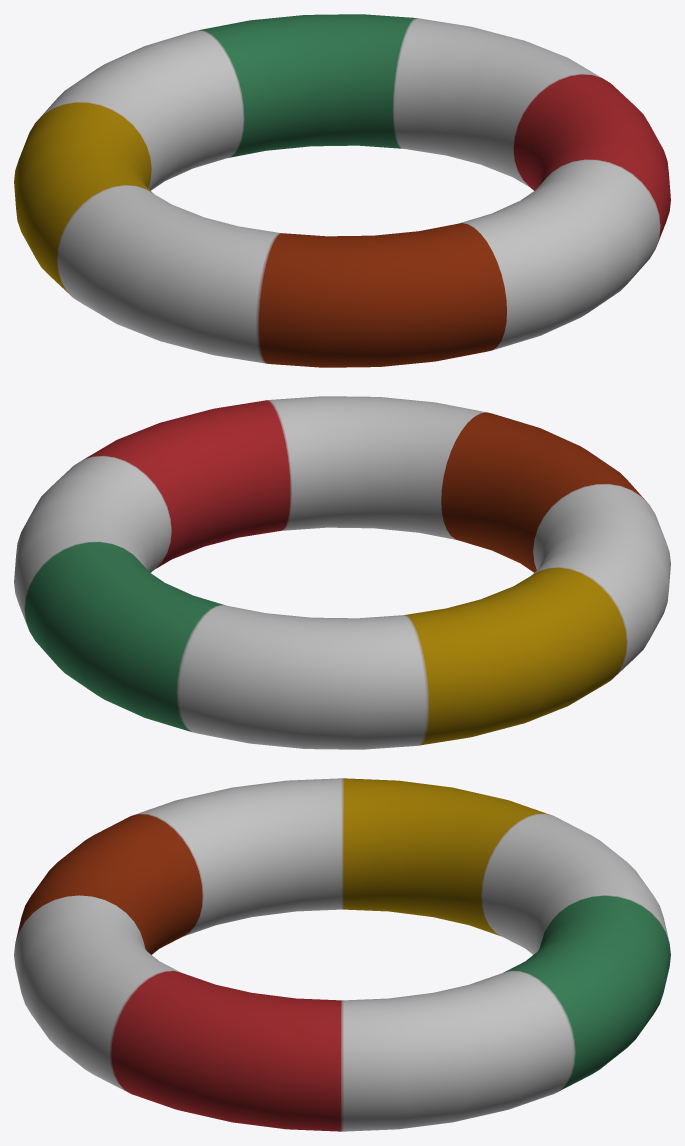
File: SwimRing.glb
3 views of the same model, one above another, from view 1: azimuth 30°, elevation 25°; view 2: azimuth 150°, elevation 25°; view 3: azimuth 270°, elevation 25° (orthographic).
Parts seen in each view (by area): view 1: torus; view 2: torus; view 3: torus.
Part boxes in pixels (x1=…): torus: x1=14, y1=14, x2=670, y2=367; torus: x1=14, y1=396, x2=670, y2=749; torus: x1=14, y1=778, x2=670, y2=1131.
Bounding box in the file's own units: 2.5 × 0.5 × 2.5.
Materials: 1 (1 with a texture image).
